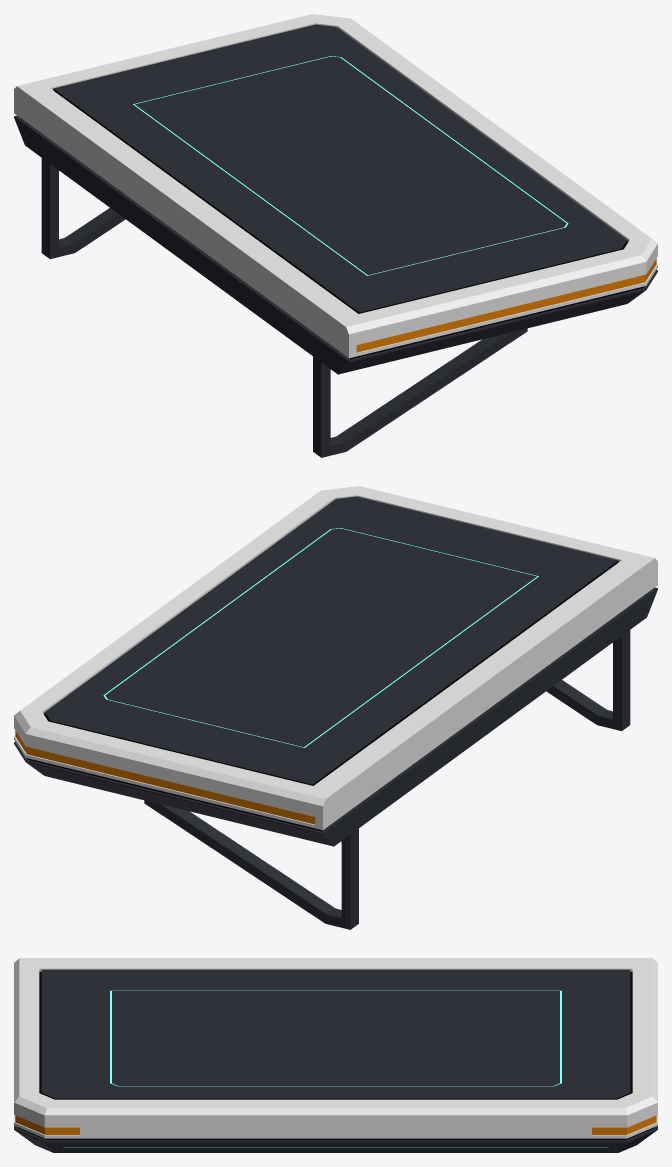
The model's file is SM_Desk_WallMounted.fbx.
3 renders of one model, top to bottom at view 1: azimuth 30°, elevation 25°; view 2: azimuth 150°, elevation 25°; view 3: azimuth 270°, elevation 25°, orthographic. The views are drawn at different scales.
Parts seen in each view (by area): view 1: SM_Desk_WallMounted; view 2: SM_Desk_WallMounted; view 3: SM_Desk_WallMounted.
Part boxes in pixels (bbox=[...]): SM_Desk_WallMounted: bbox=[14, 14, 657, 457]; SM_Desk_WallMounted: bbox=[14, 486, 657, 929]; SM_Desk_WallMounted: bbox=[14, 958, 657, 1152].
Size of the model in its own units: 70 by 30.64 by 125.
